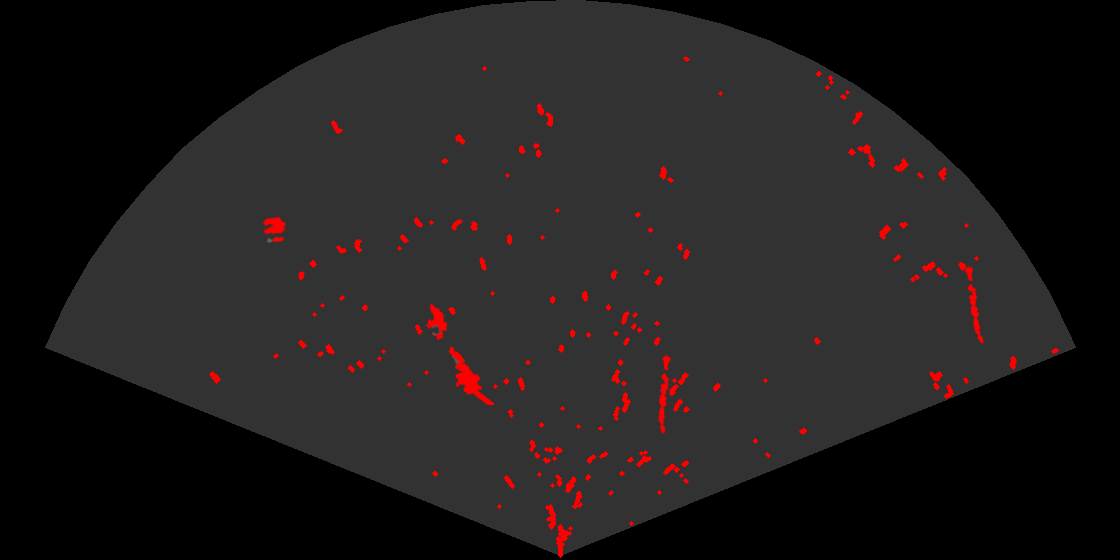AUV: (426, 302, 449, 342)
ball: (261, 215, 288, 244)
chain: (963, 265, 985, 346), (656, 353, 672, 435)
frogman: (447, 345, 494, 405)
